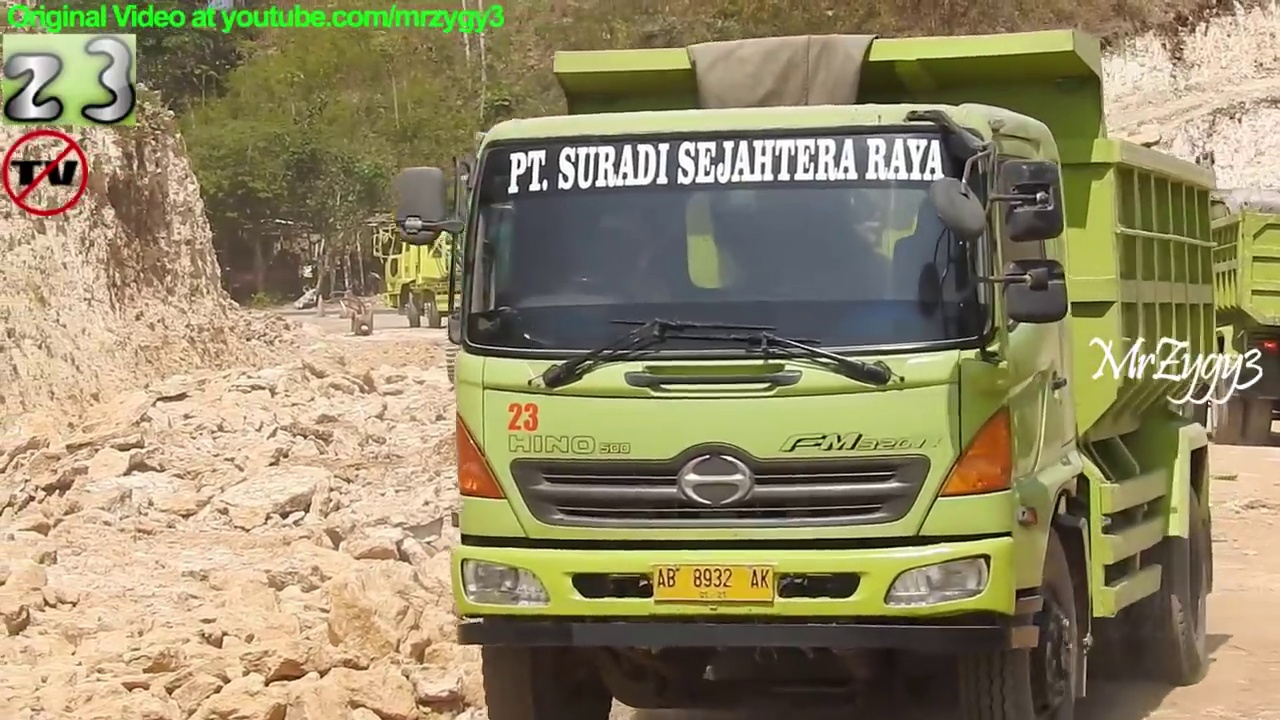truck: (386, 23, 1226, 720), (1075, 182, 1280, 447), (367, 210, 637, 333)
